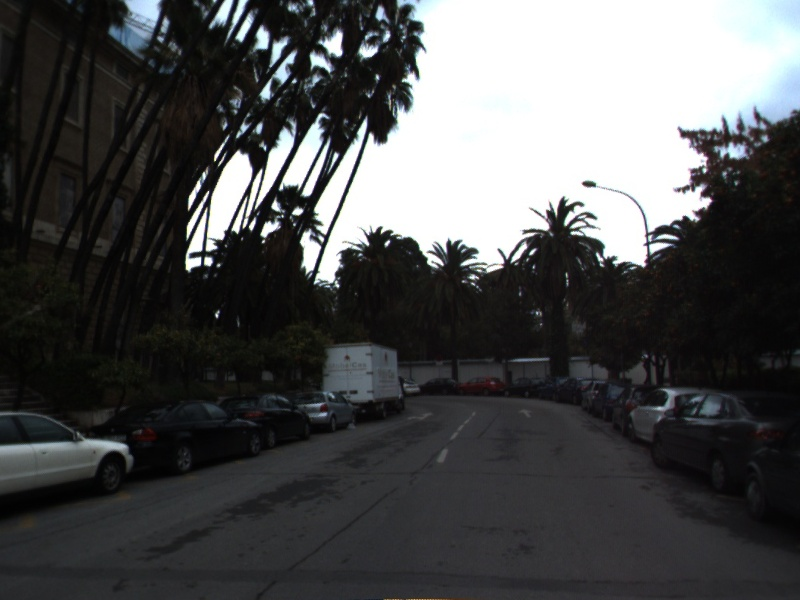STRAIGHT: (517, 407, 536, 419)
STRAIGHT_LEFT: (405, 410, 437, 422)
